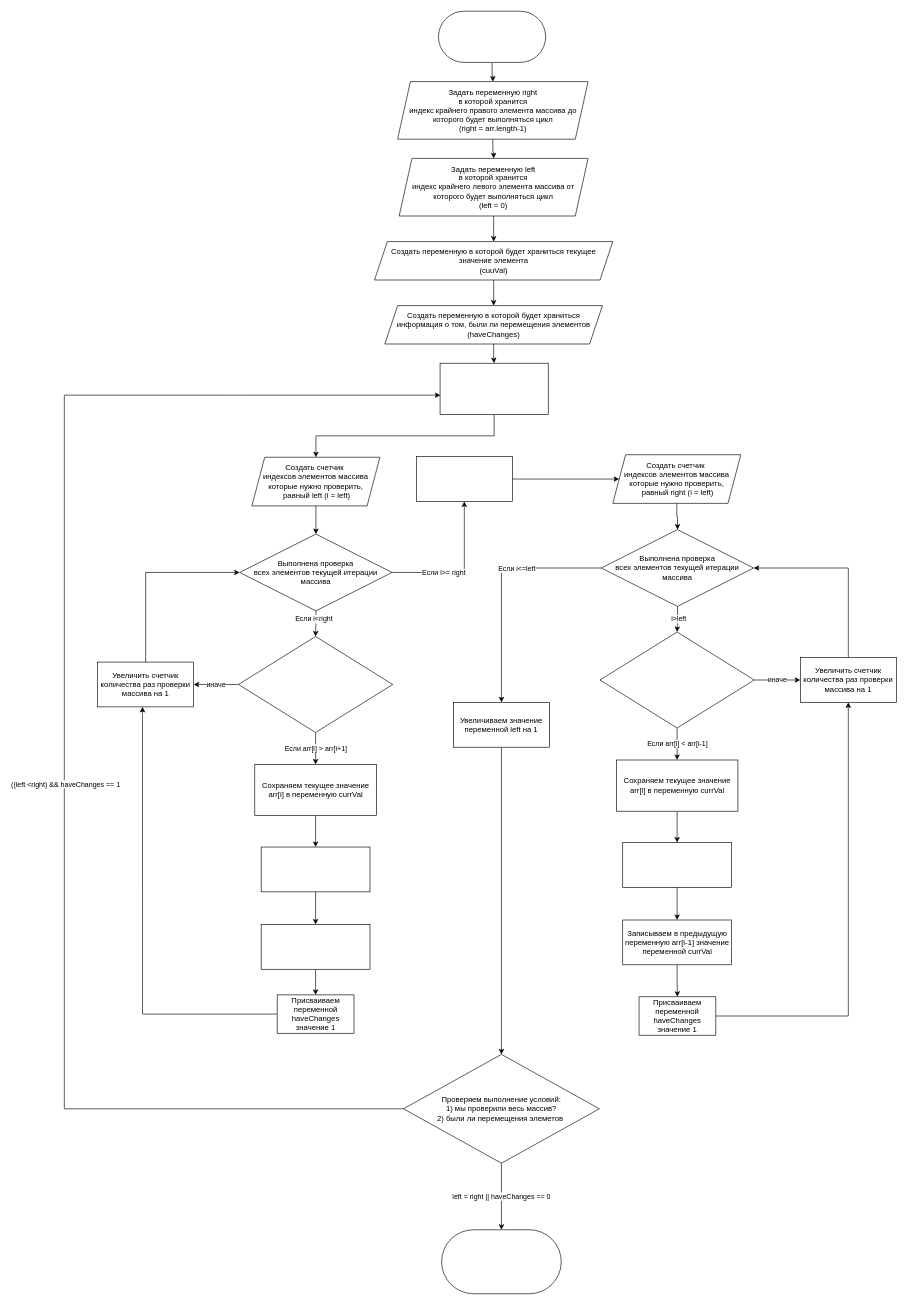
The diagram is 908 pixels wide and 1305 high, and some of its shapes have lost their labels. The shapes that lost their labels are listed below. From the top down, each one's box as (x1, y1, x2, y2) in pixels, then its label:
(438, 11, 546, 62): Выполнение шейкерной сортировки массива
(439, 363, 548, 414): Присвоить переменной haveChanges значение равное 0 (нет изменений)
(416, 456, 512, 501): Уменьшаем значение переменной right на 1
(238, 636, 393, 732): Сравнить значение текущего элемента массива и следующего элемента массива
(599, 631, 754, 728): Сравнить значение текущего элемента массива и предыдущего элемента массива
(261, 846, 370, 892): Записываем в текущую переменную arr[i] значение переменной arr[i+1]
(622, 842, 732, 887): Записываем в текущую переменную arr[i] значение переменной arr[i-1]
(261, 924, 370, 969): Записываем в следующую переменную arr[i+1] значение переменной currVal
(441, 1229, 561, 1294): Сортировка массива закончена
